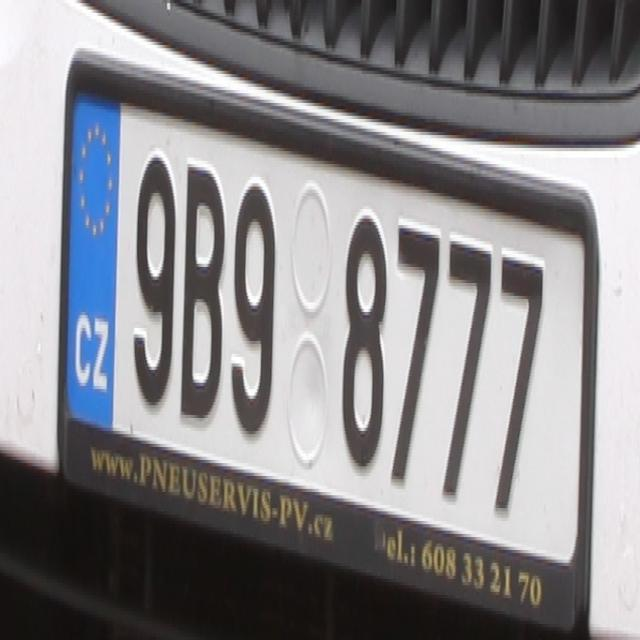7: (492, 244, 550, 512), (440, 222, 488, 512), (392, 212, 440, 496)
8: (338, 202, 386, 460)
9: (230, 180, 276, 441), (132, 151, 174, 402)
B: (177, 158, 226, 412)
